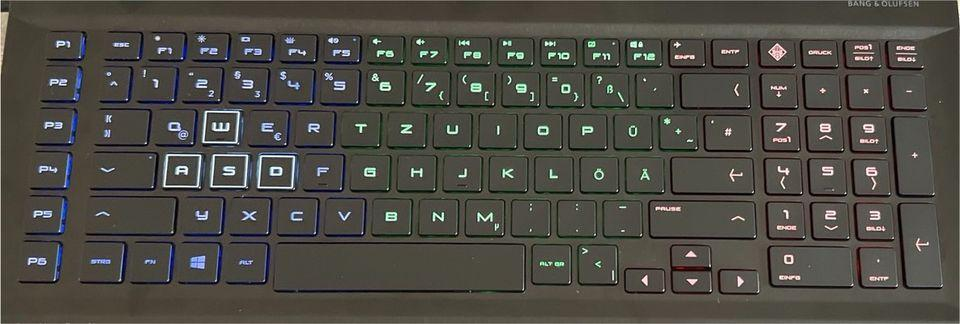0: (543, 68, 583, 105)
1: (132, 62, 174, 99)
2: (177, 62, 222, 101)
3: (224, 63, 268, 101)
4: (271, 64, 313, 102)
5: (317, 66, 359, 103)
6: (363, 66, 405, 104)
7: (409, 66, 449, 104)
8: (453, 67, 493, 105)
9: (498, 68, 539, 105)
a: (160, 150, 201, 186)
accent: (632, 69, 671, 105)
ae: (622, 152, 663, 191)
alt-left: (221, 239, 268, 282)
altgr-right: (528, 239, 571, 283)
b: (367, 194, 411, 234)
c: (273, 193, 318, 234)
caret: (97, 63, 129, 100)
comma: (508, 195, 549, 235)
d: (255, 151, 295, 187)
del: (678, 69, 749, 106)
e: (243, 105, 288, 145)
enter: (668, 153, 753, 192)
f: (299, 149, 342, 189)
g: (346, 150, 389, 189)
h: (394, 150, 435, 190)
hash: (701, 111, 750, 149)
i: (476, 109, 516, 146)
j: (440, 151, 481, 190)
k: (486, 151, 527, 190)
keyboard: (12, 11, 953, 307)
l: (531, 152, 571, 191)
less: (575, 241, 617, 284)
m: (461, 194, 504, 235)
minus: (600, 196, 641, 235)
n: (415, 194, 458, 234)
o: (520, 110, 562, 148)
oe: (577, 153, 618, 191)
p: (566, 110, 606, 148)
plus: (656, 111, 696, 148)
point: (554, 196, 595, 234)
q: (149, 105, 195, 144)
r: (291, 106, 334, 145)
s: (207, 151, 247, 186)
shift-left: (85, 191, 176, 233)
shift-lock: (88, 148, 155, 187)
shift-right: (645, 196, 754, 236)
space: (272, 237, 525, 291)
ss: (588, 69, 626, 105)
strg-left: (77, 238, 127, 282)
t: (337, 107, 379, 145)
tab: (94, 105, 148, 143)
u: (430, 108, 471, 147)
ue: (611, 110, 651, 148)
v: (320, 194, 364, 234)
w: (200, 107, 239, 142)
x: (225, 193, 270, 233)
y: (179, 196, 224, 236)
z: (383, 107, 426, 146)
